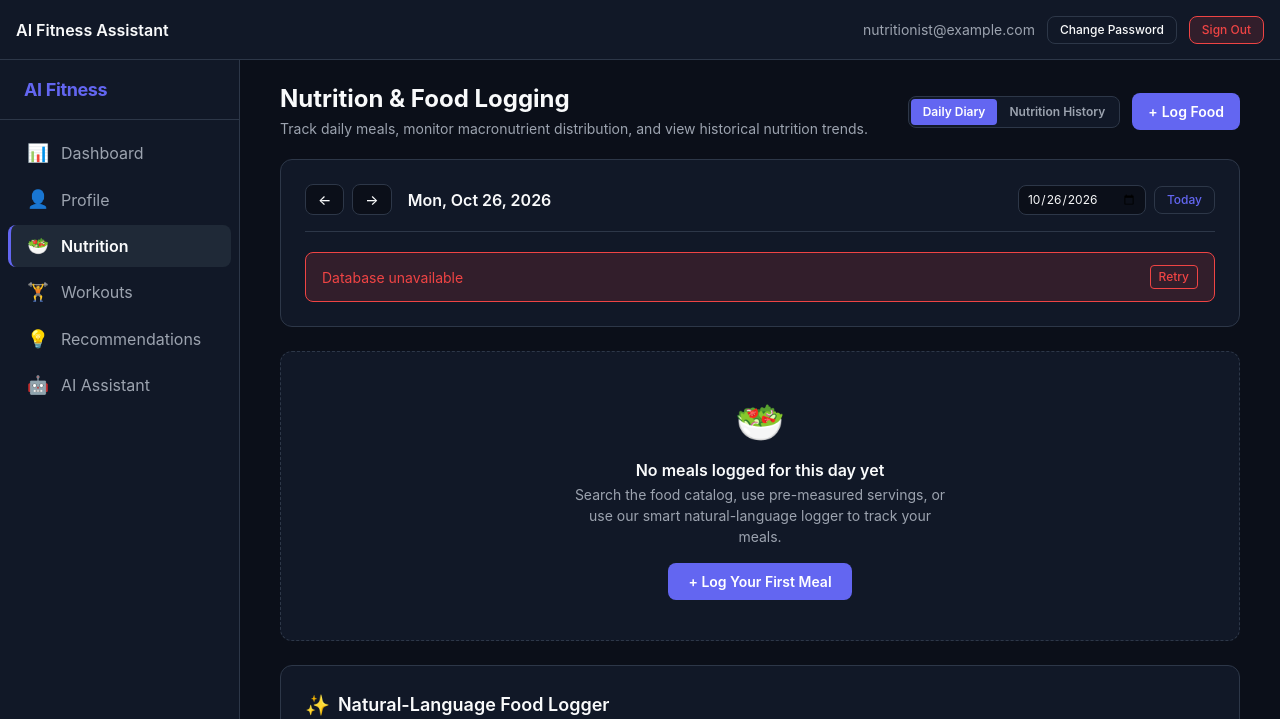
Phase 8E — Nutrition & Food Logging Tests › 4. daily API error displays error state and retry succeeds
Check: the message shows "Database unavailable", box [322, 268, 463, 286]
// Click retry
Click the button "Retry".
click(1174, 277)  # box [1150, 265, 1198, 289]
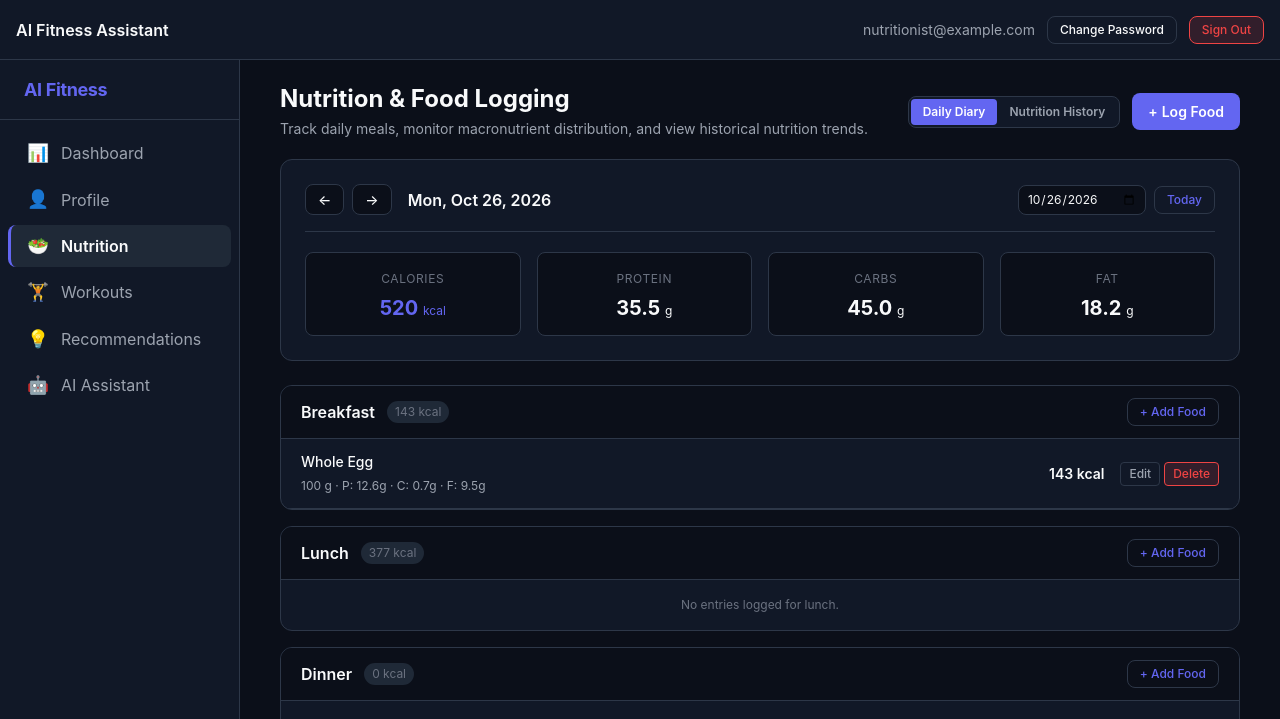
Check: the element with test id "total-calories-value" shows "520", box [380, 296, 418, 320]
Check: the message "Database unavailable Retry" is gone
